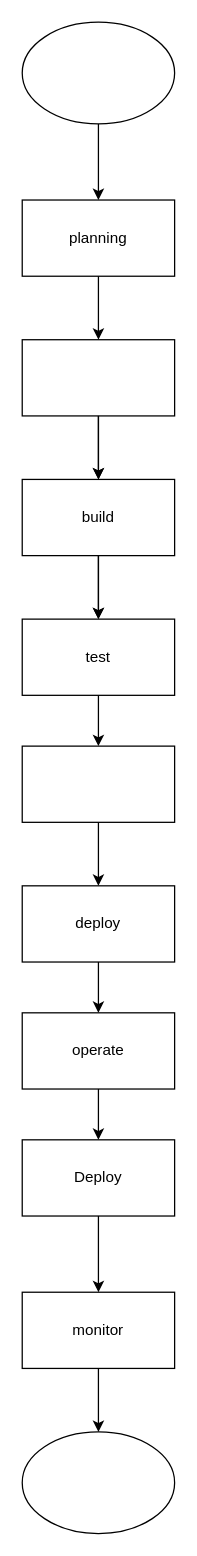
This 197x1556 diagram has some shape labels left out. The centre of each missing label's shape, as x and y in pixels:
"develop" belongs at (98,377).
"release" belongs at (98,783).
"start" belongs at (98,72).
"stop" belongs at (98,1482).
